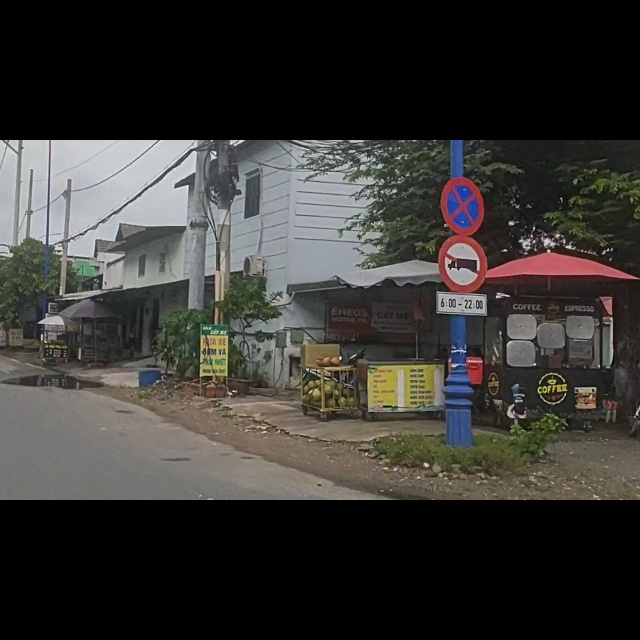bien_cam: (439, 171, 488, 271), (441, 65, 485, 168)
